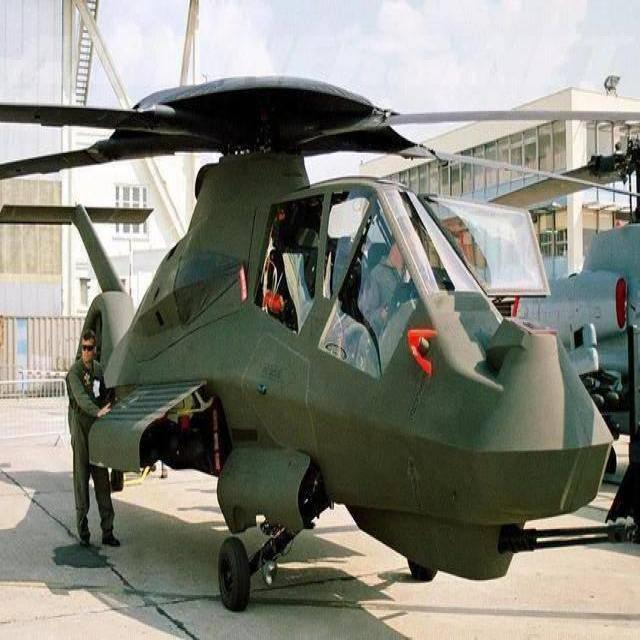MIL_HELO: (0, 72, 640, 610)
